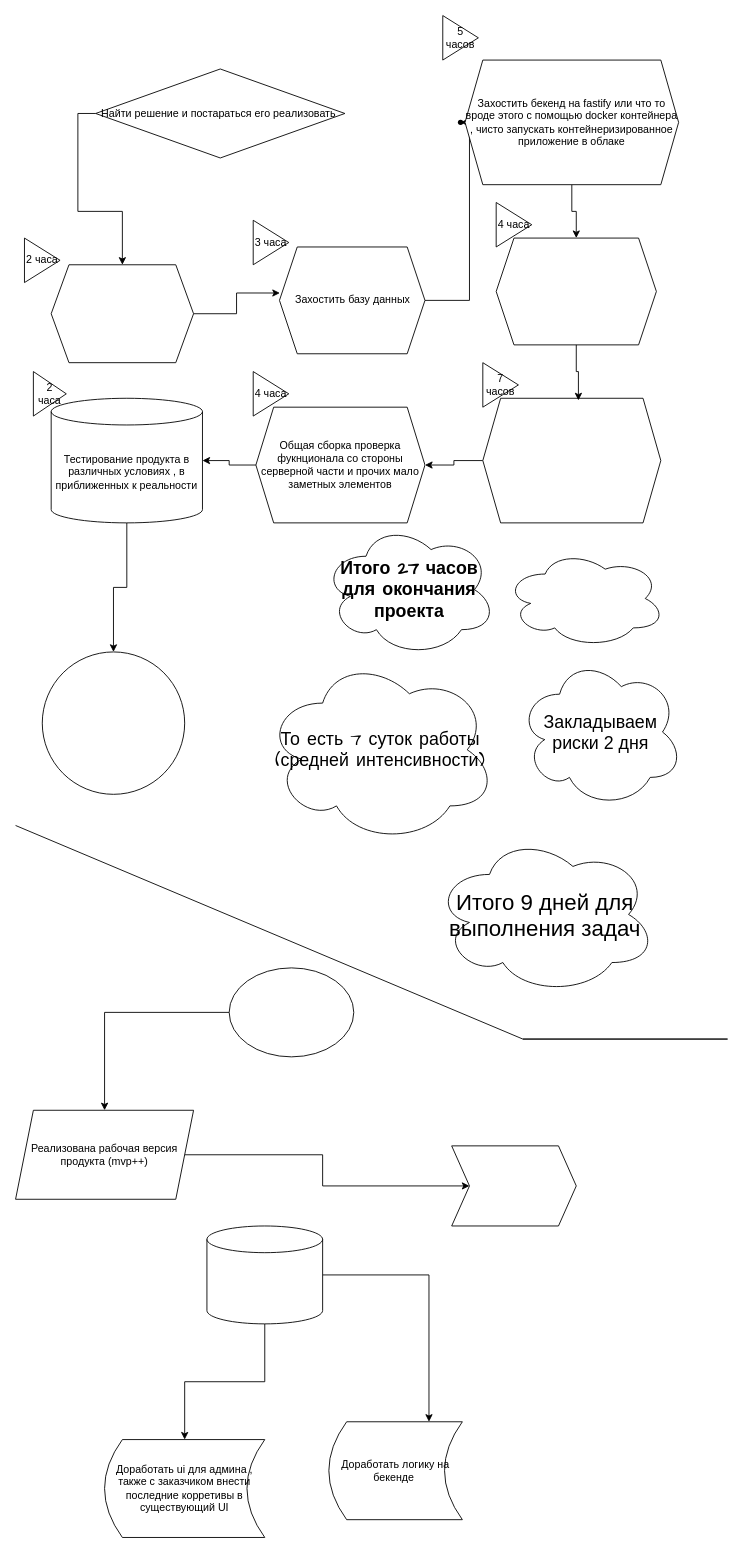
Image size: 744x1553. Some labels were removed from this diagram. The shapes that lost their labels are listed below. From the top down, each one's centre as x and y in pixels, then its label:
At pixel 575 291: "Начать доделывать ui , если все успею быстро сделать".
At pixel 122 313: "Исправить логику работы бота , а именно дублирование ответных сообщений".
At pixel 571 460: "Доработка бекенда , дописывание логики доведение до ума".
At pixel 584 598: "Всего дней до велоквеста : 13".
At pixel 113 722: "ВелоКвест".
At pixel 291 1012: "Сделано".
At pixel 513 1185: "Захощен бот и фронтенд".
At pixel 264 1274: "Доработки".
